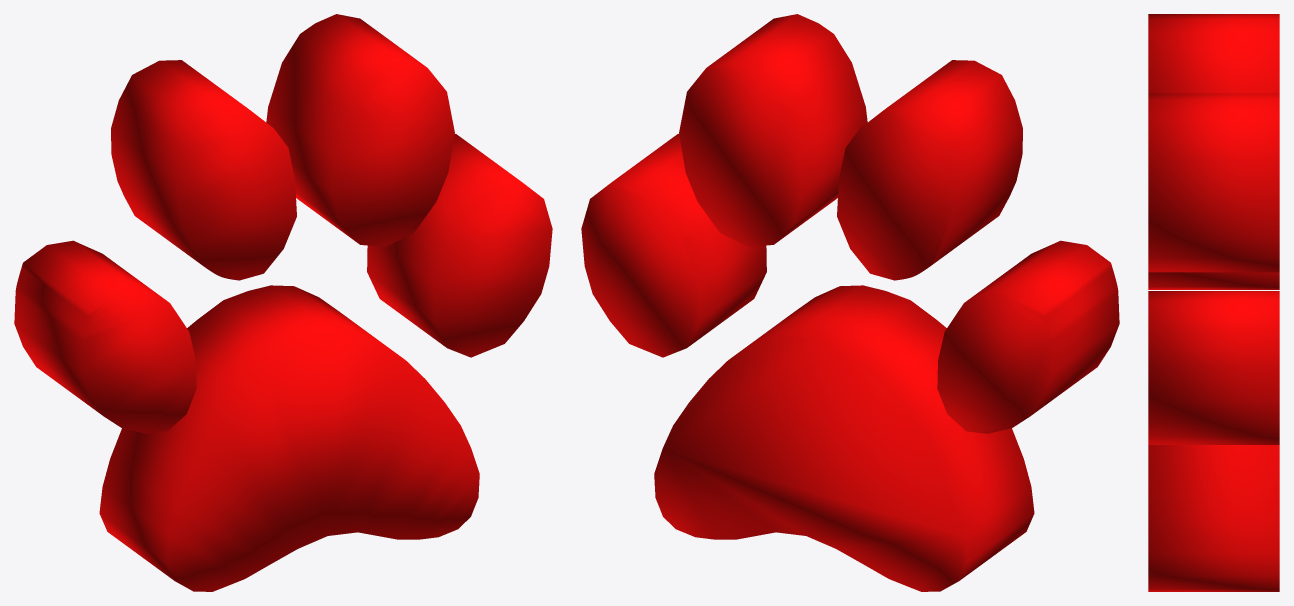
File: redPaw.dae
3 renders of one model, left to right at view 1: azimuth 30°, elevation 25°; view 2: azimuth 150°, elevation 25°; view 3: azimuth 270°, elevation 25°, orthographic. The views are drawn at different scales.
Parts seen in each view (by area): view 1: Line001; view 2: Line001; view 3: Line001.
Part boxes in pixels (box(x1,y1,x2,y2)): Line001: box(14, 14, 552, 591); Line001: box(581, 14, 1119, 591); Line001: box(1148, 14, 1279, 591).
Bounding box in the file's own units: 40.29 × 10 × 39.45.
